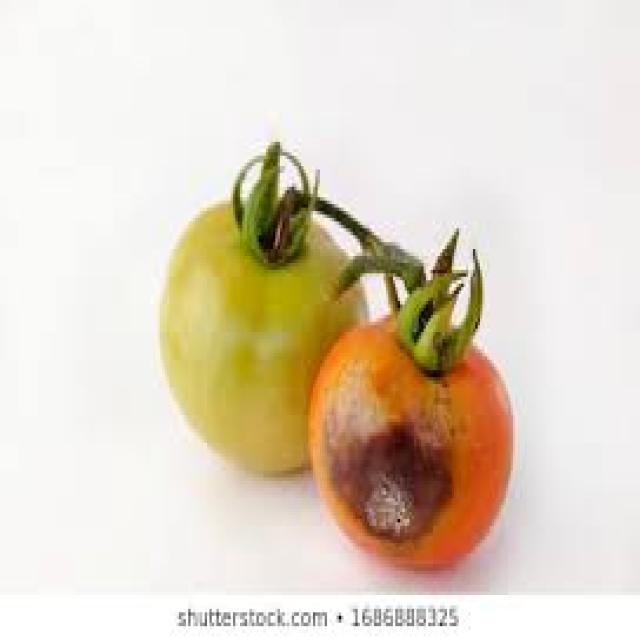overripe tomato: (306, 208, 544, 595)
